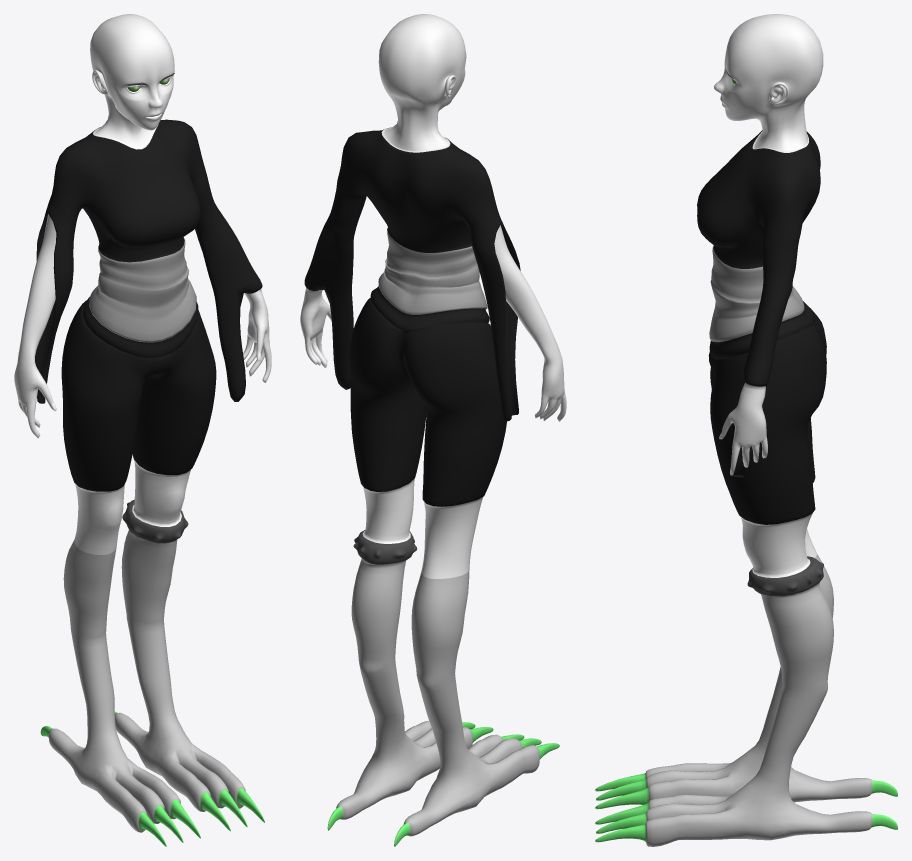
File: BirbPlaceHolder.fbx
3 renders of one model, left to right at view 1: azimuth 30°, elevation 25°; view 2: azimuth 150°, elevation 25°; view 3: azimuth 270°, elevation 25°, orthographic. The views are drawn at different scales.
Visible parts, largest first — view 1: Body; view 2: Body; view 3: Body.
Boxes of the visible parts, <box> form: Body: <box>14,14,271,846</box>; Body: <box>300,14,566,846</box>; Body: <box>595,14,897,846</box>.
Bounding box in the file's own units: 0.5928 × 1.73 × 0.5904.
